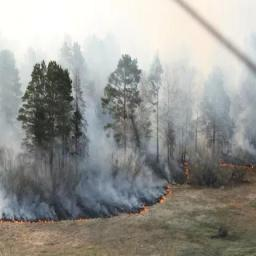Low smoke: (0, 35, 256, 222)
